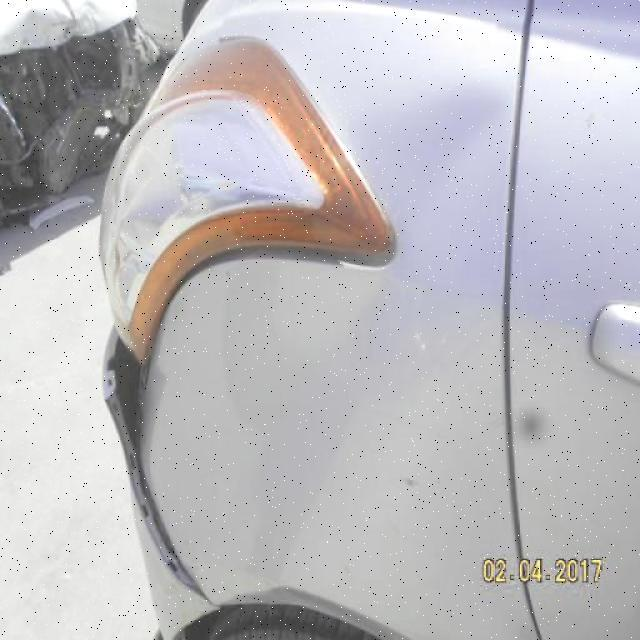car damage: (101, 327, 211, 605), (515, 404, 549, 444), (401, 466, 423, 494)
